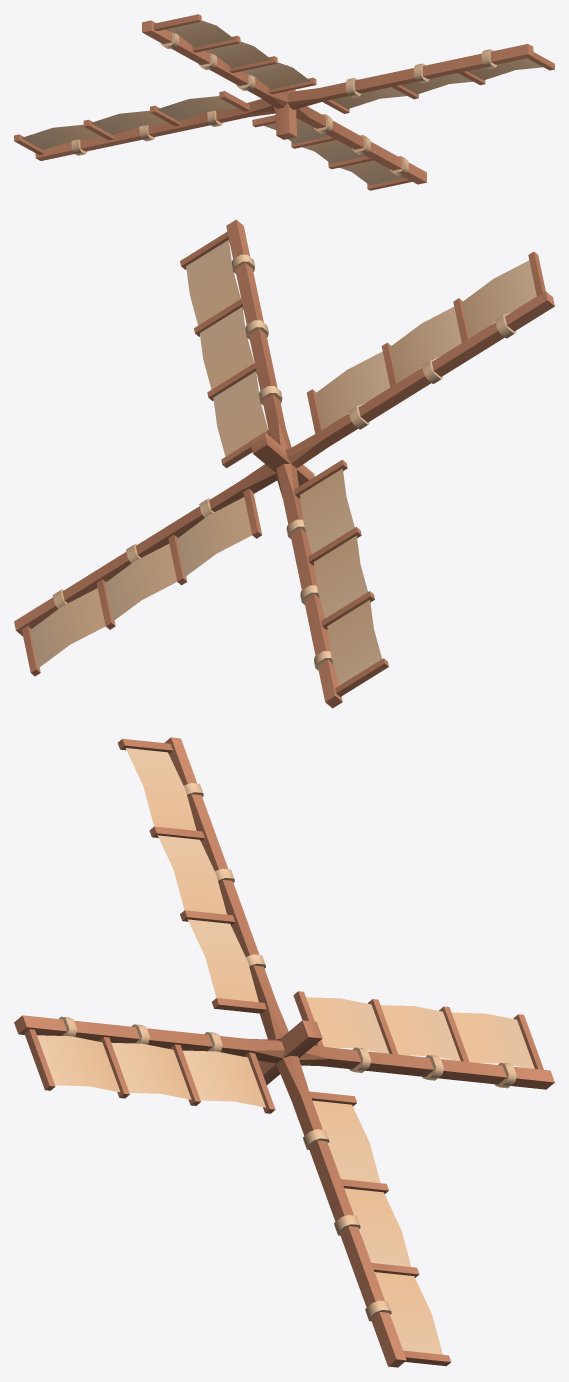
The model's file is windmill_lev1.glb.
3 views of the same model, one above another, from view 1: azimuth 30°, elevation 25°; view 2: azimuth 150°, elevation 25°; view 3: azimuth 270°, elevation 25° (orthographic). The views are drawn at different scales.
Visible parts, largest first — view 1: windmill_lev1; view 2: windmill_lev1; view 3: windmill_lev1.
Boxes of the visible parts, x1,y1,x2,y2 form: windmill_lev1: [14, 14, 554, 190]; windmill_lev1: [14, 219, 554, 708]; windmill_lev1: [14, 737, 554, 1367].
Bounding box in the file's own units: 20.76 × 18.21 × 20.28.
1 material, 1 textured.
